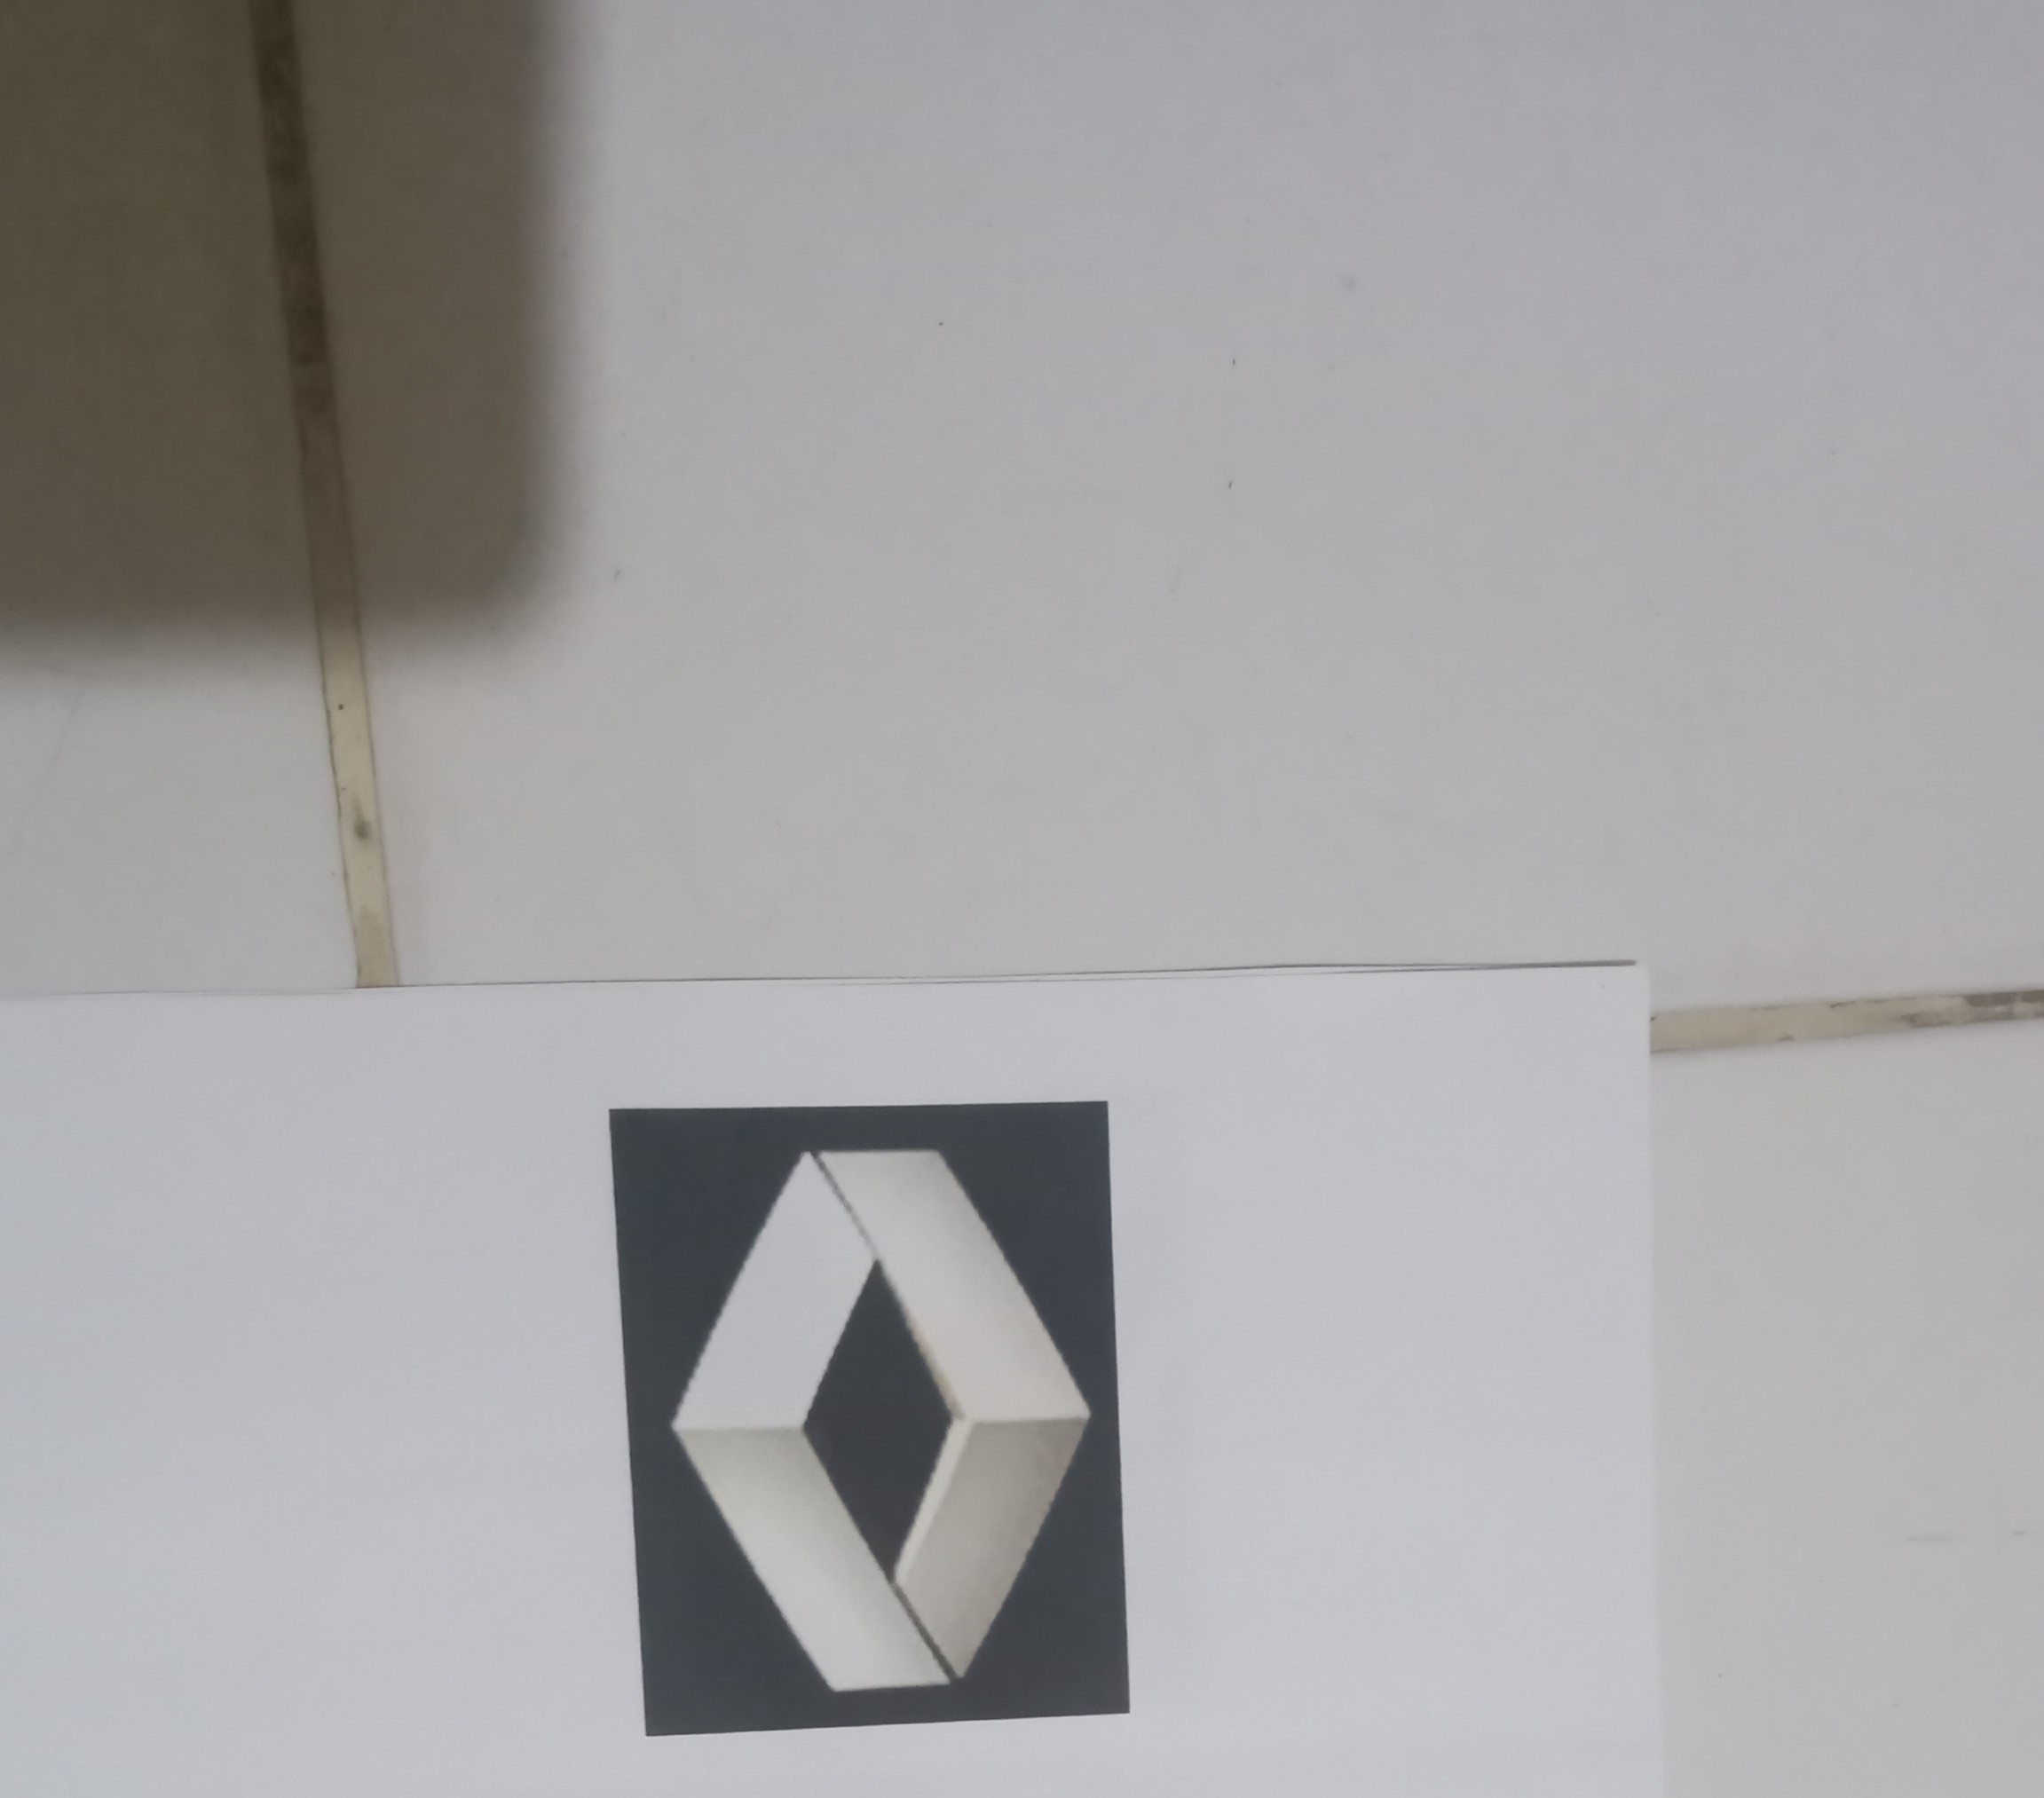Renault: (641, 1120, 1102, 1704)
